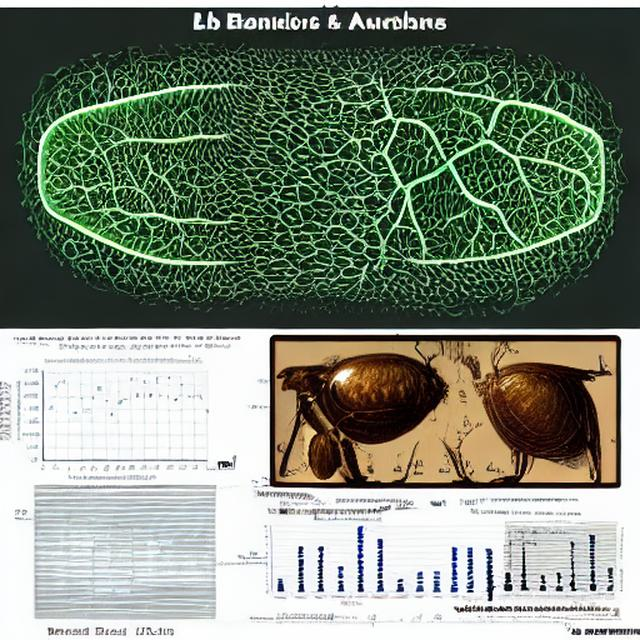Graph: (12, 354, 214, 483), (243, 516, 431, 607)
